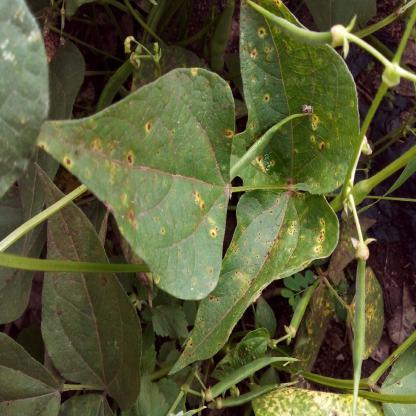Beans_Rust: (42, 64, 232, 299), (162, 188, 339, 376), (235, 0, 359, 193), (352, 264, 390, 370)
